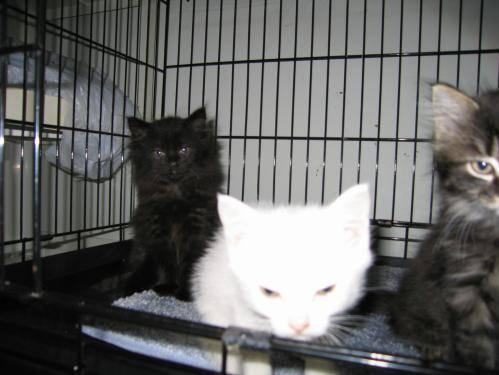cat: (129, 108, 372, 339), (390, 84, 498, 368)
